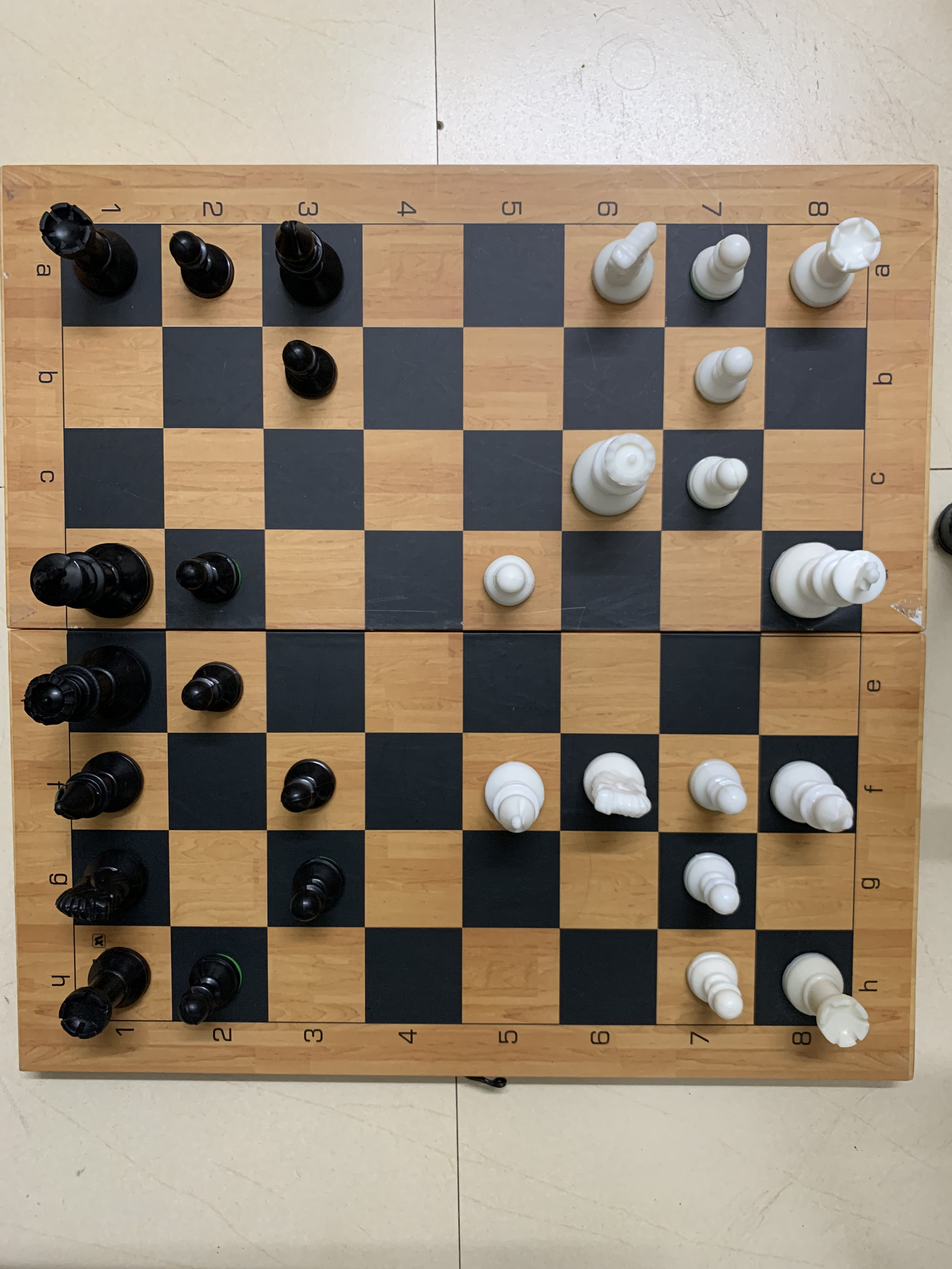black_bishop: (44, 739, 156, 826), (266, 212, 347, 314)
black_king: (27, 539, 156, 621)
black_knight: (46, 841, 159, 929)
black_pawn: (171, 942, 259, 1028), (162, 225, 247, 306), (283, 842, 353, 931), (277, 330, 344, 407), (172, 545, 244, 611), (279, 745, 339, 820), (178, 656, 251, 715)
black_queen: (18, 645, 160, 729)
black_rook: (32, 196, 145, 309), (51, 941, 162, 1045)
white_bishop: (767, 752, 875, 842), (473, 754, 551, 845)
white_king: (767, 533, 897, 629)
white_knight: (586, 210, 673, 319), (570, 738, 664, 833)
white_pawn: (676, 942, 753, 1026), (685, 224, 757, 307), (689, 336, 760, 415), (680, 444, 753, 515), (678, 849, 748, 922), (687, 748, 753, 820), (477, 546, 539, 612)
white_queen: (563, 428, 659, 524)
white_rook: (772, 942, 874, 1059), (780, 212, 888, 311)
